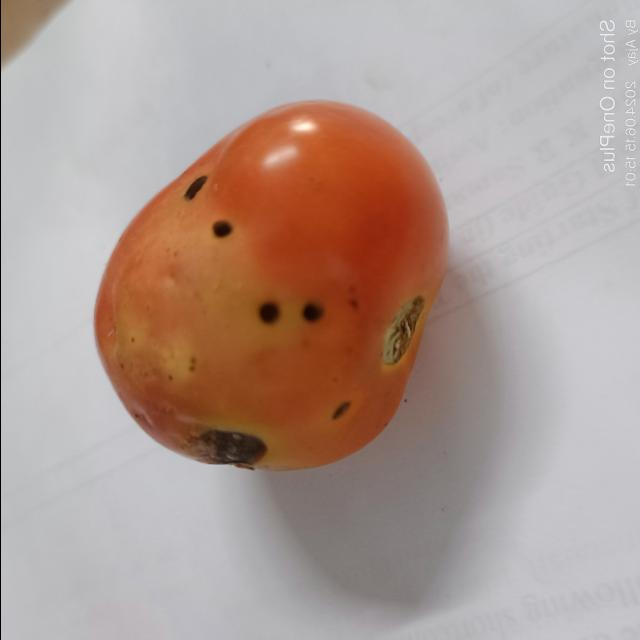fruitworm_bore: (248, 296, 331, 326), (176, 173, 212, 207), (203, 216, 239, 247)
